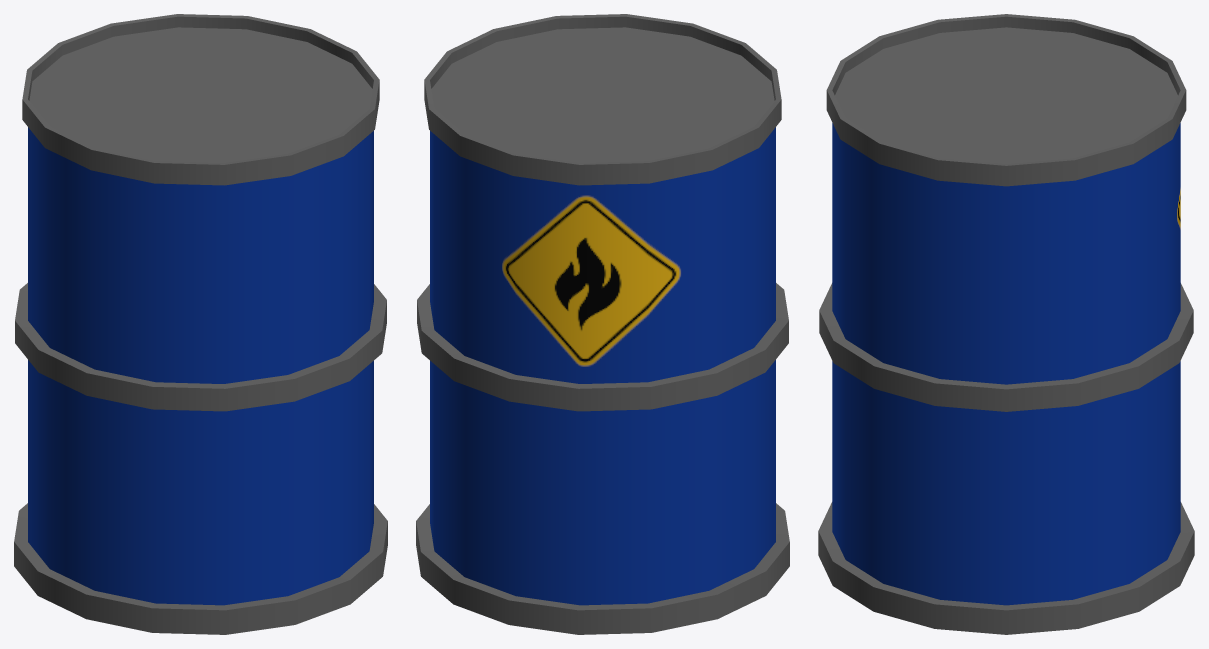
Rendered from barrel.fbx.
The picture shows the model from 3 angles, left to right: view 1: azimuth 30°, elevation 25°; view 2: azimuth 150°, elevation 25°; view 3: azimuth 270°, elevation 25°; orthographic projection.
Visible parts, largest first — view 1: Circle; view 2: Circle; view 3: Circle.
Boxes of the visible parts, x1,y1,x2,y2 form: Circle: (14, 14, 387, 634); Circle: (416, 14, 789, 634); Circle: (818, 14, 1194, 634).
Bounding box in the file's own units: 216 × 295 × 216.
